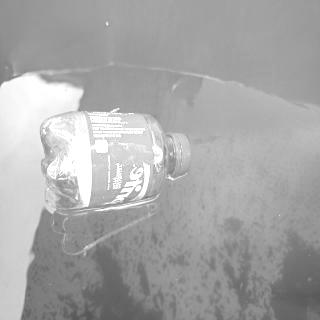bottle: (40, 108, 192, 210)
